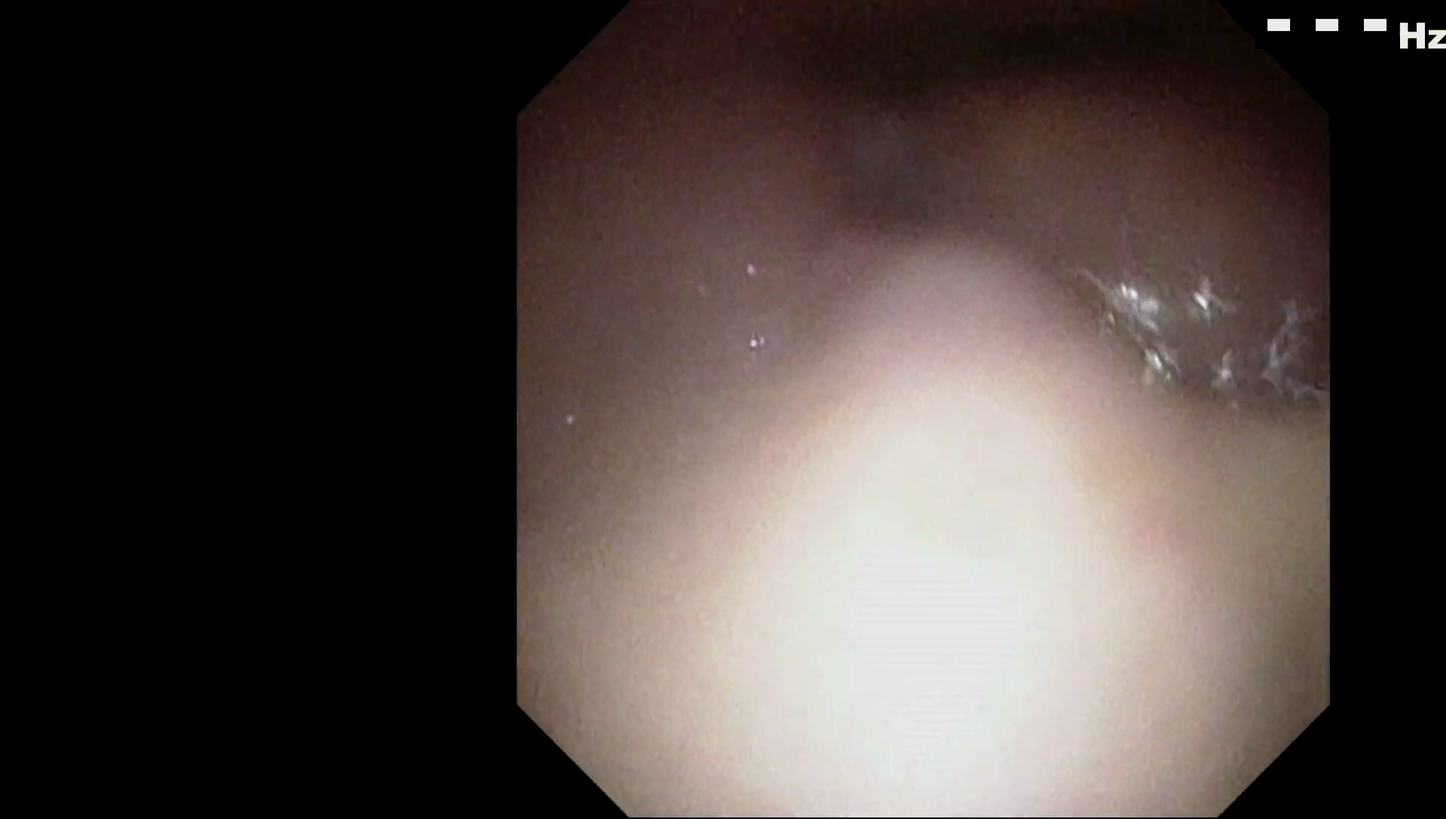close_wall: (594, 180, 1276, 772)
next: (780, 11, 1247, 120)
